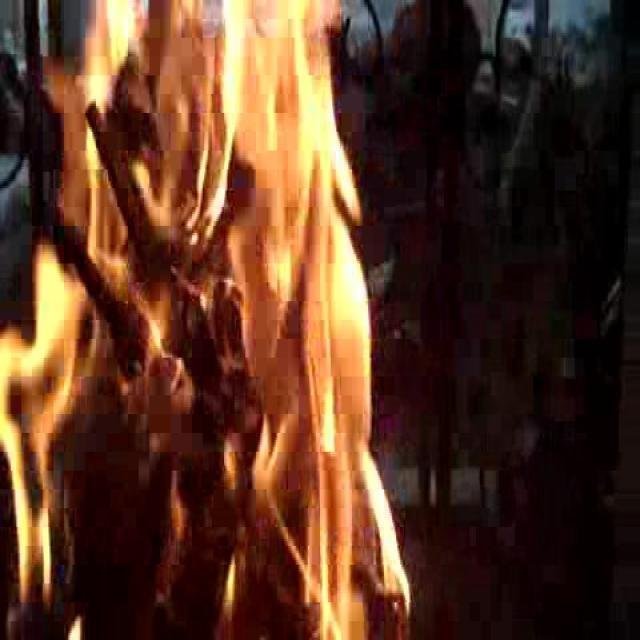Fire: (39, 3, 394, 601)
